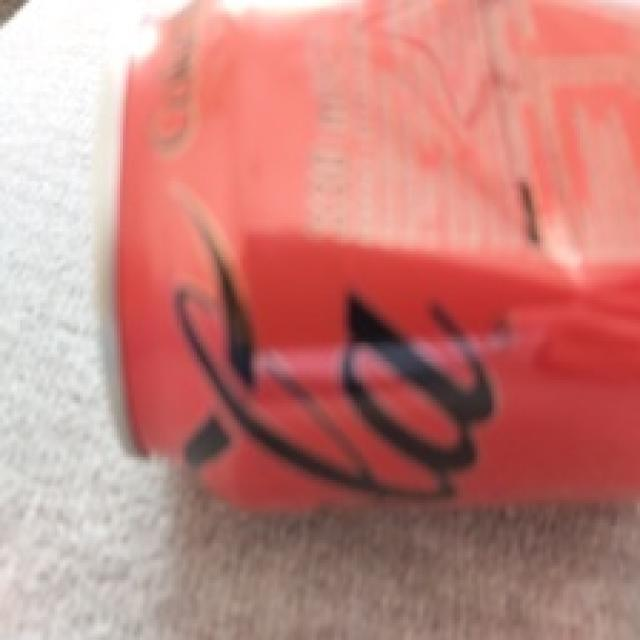recyclable: (89, 1, 640, 513)
